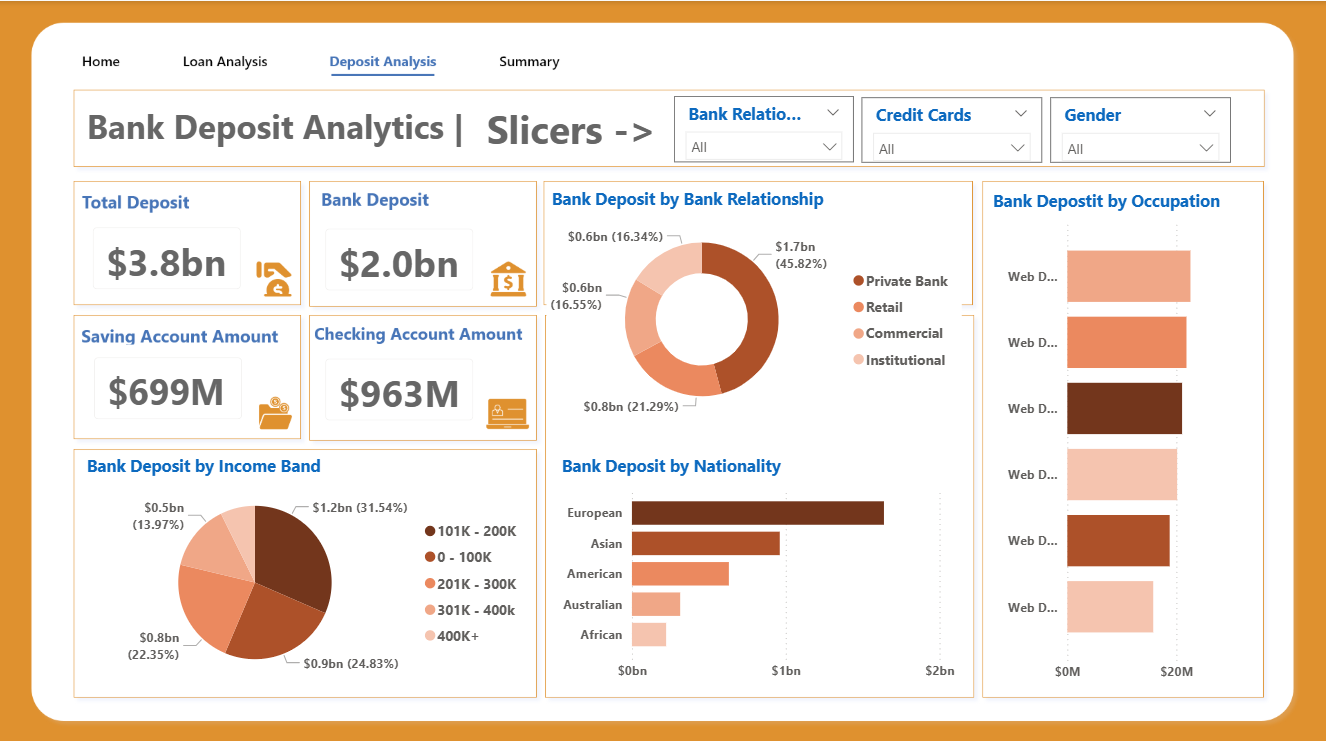

What the dashboard file says about the page in this screenshot:
{"tool":"powerbi","page":{"name":"Deposite Analytics","canvas":[1280,720],"ordinal":2},"visuals":[{"type":"cardVisual","fields":{"Data":["project bank.Total Deposit"]},"box":[78,206.2,167.2,84.2],"z":0},{"type":"cardVisual","fields":{"Data":["Sum(project bank.Bank Deposits)"]},"box":[303,207.5,167.2,84.2],"z":1000},{"type":"cardVisual","fields":{"Data":["Sum(project bank.Saving Accounts)"]},"box":[79.2,331.9,167.2,84.2],"z":2000},{"type":"cardVisual","fields":{"Data":["Sum(project bank.Checking Accounts)"]},"box":[303,333.2,167.2,84.2],"z":3000},{"type":"cardVisual","fields":{"Data":["Sum(project bank.Foreign Currency Account)"]},"box":[528.1,206.2,313.1,84.2],"z":4000},{"type":"textbox","box":[79.2,94.3,398.6,61.6],"z":5000},{"type":"textbox","box":[465.2,93,186.1,61.6],"z":6000},{"type":"slicer","fields":{"Values":["project bank.Bank Relationship"]},"box":[651.3,91.8,173.5,64.1],"z":7000},{"type":"slicer","fields":{"Values":["project bank.Amount of Credit Cards"]},"box":[832.4,93,174,62.9],"z":8000},{"type":"slicer","fields":{"Values":["project bank.GenderId"]},"box":[1014.7,93,174,62.9],"z":9000},{"type":"pieChart","title":"Bank Deposit by Income Band","fields":{"Category":["project bank.Income BandCustom"],"Y":["project bank.Total Deposit"]},"box":[79.5,437.3,434.2,227.8],"z":10000},{"type":"donutChart","title":"Bank Deposit by Bank Relationship","fields":{"Category":["project bank.Bank Relationship"],"Y":["project bank.Total Deposit"]},"box":[528.1,179.8,401.1,233.9],"z":11000},{"type":"clusteredBarChart","title":"Bank Deposit by Nationality","fields":{"Category":["project bank.Nationality"],"Y":["project bank.Total Deposit"]},"box":[538.2,437.3,389.9,227.8],"z":12000},{"type":"clusteredBarChart","title":"Bank Depostit by Occupation","fields":{"Category":["project bank.Occupation"],"Y":["project bank.Total Deposit"]},"box":[954.1,180.4,256.9,484.7],"z":13000},{"type":"actionButton","box":[62.7,38.6,100.1,39.8],"z":13001},{"type":"actionButton","box":[178.6,38.6,100.1,39.8],"z":13002},{"type":"actionButton","box":[470.5,38.6,100.1,39.8],"z":13004}]}

Visuals, with their boxes in screenshot pixels (x1, y1, x2, y2), scaled from the page's 1280x720 canvas onto the 1326x741 screenshot:
cardVisual - project bank.Total Deposit: Rect(81, 212, 254, 299)
cardVisual - Sum(project bank.Bank Deposits): Rect(314, 214, 487, 300)
cardVisual - Sum(project bank.Saving Accounts): Rect(82, 342, 255, 428)
cardVisual - Sum(project bank.Checking Accounts): Rect(314, 343, 487, 430)
cardVisual - Sum(project bank.Foreign Currency Account): Rect(547, 212, 871, 299)
textbox: Rect(82, 97, 495, 160)
textbox: Rect(482, 96, 675, 159)
slicer - project bank.Bank Relationship: Rect(675, 94, 854, 160)
slicer - project bank.Amount of Credit Cards: Rect(862, 96, 1043, 160)
slicer - project bank.GenderId: Rect(1051, 96, 1231, 160)
"Bank Deposit by Income Band" pieChart: Rect(82, 450, 532, 684)
"Bank Deposit by Bank Relationship" donutChart: Rect(547, 185, 963, 426)
"Bank Deposit by Nationality" clusteredBarChart: Rect(558, 450, 961, 684)
"Bank Depostit by Occupation" clusteredBarChart: Rect(988, 186, 1255, 684)
actionButton: Rect(65, 40, 169, 81)
actionButton: Rect(185, 40, 289, 81)
actionButton: Rect(487, 40, 591, 81)
